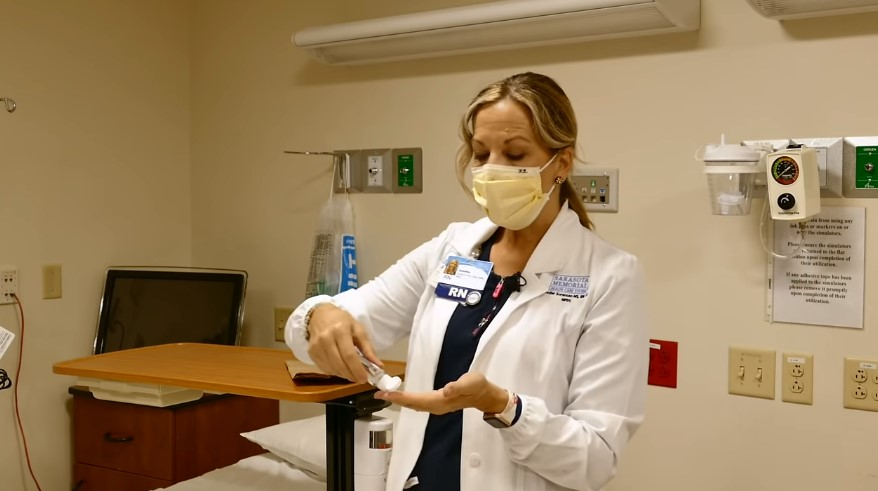face_with_mask: (469, 79, 570, 229)
